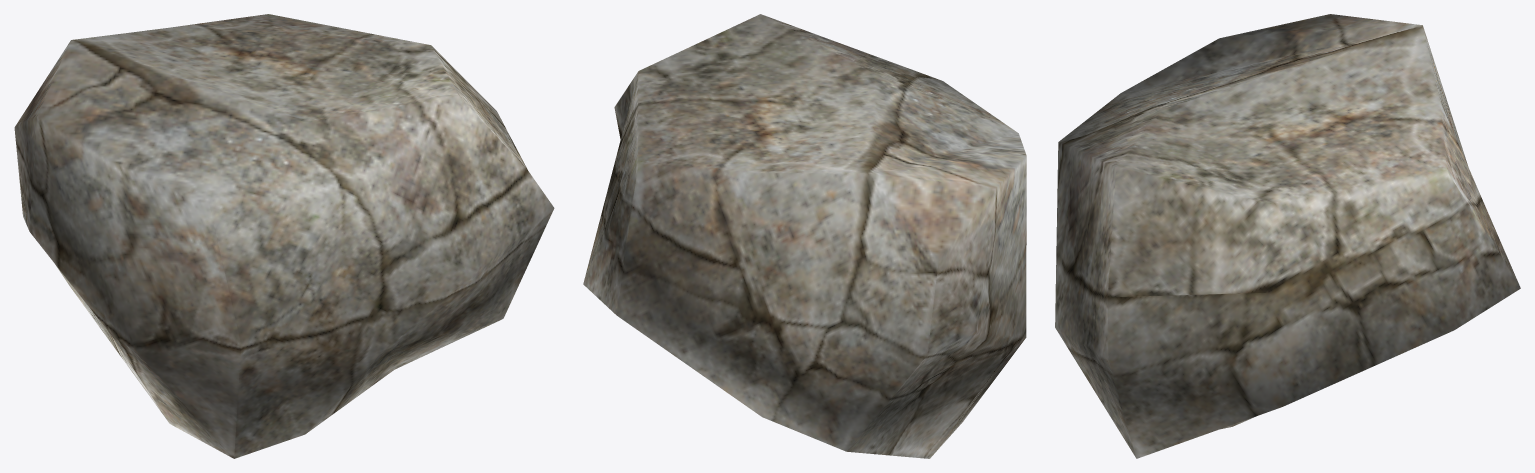
File: Rock2_LOD2.fbx
3 views of the same model, side by side, from view 1: azimuth 30°, elevation 25°; view 2: azimuth 150°, elevation 25°; view 3: azimuth 270°, elevation 25° (orthographic). The views are drawn at different scales.
Parts seen in each view (by area): view 1: Rock2_90tris_Group26734; view 2: Rock2_90tris_Group26734; view 3: Rock2_90tris_Group26734.
Boxes of the visible parts, x1,y1,x2,y2 form: Rock2_90tris_Group26734: (14, 14, 554, 458); Rock2_90tris_Group26734: (583, 14, 1026, 458); Rock2_90tris_Group26734: (1055, 14, 1520, 458).
Size of the model in its own units: 4.63 by 3.59 by 4.17.
1 material, 1 textured.
